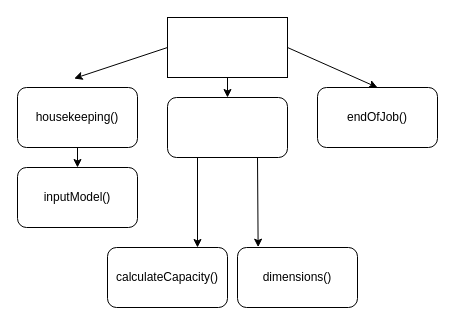
This 455x325 diagram has some shape labels left out. Here are the shapes that lost their labels. From the top down, the centre of each, then its label:
the point at 227,47: Main
the point at 227,127: detailLoop()
